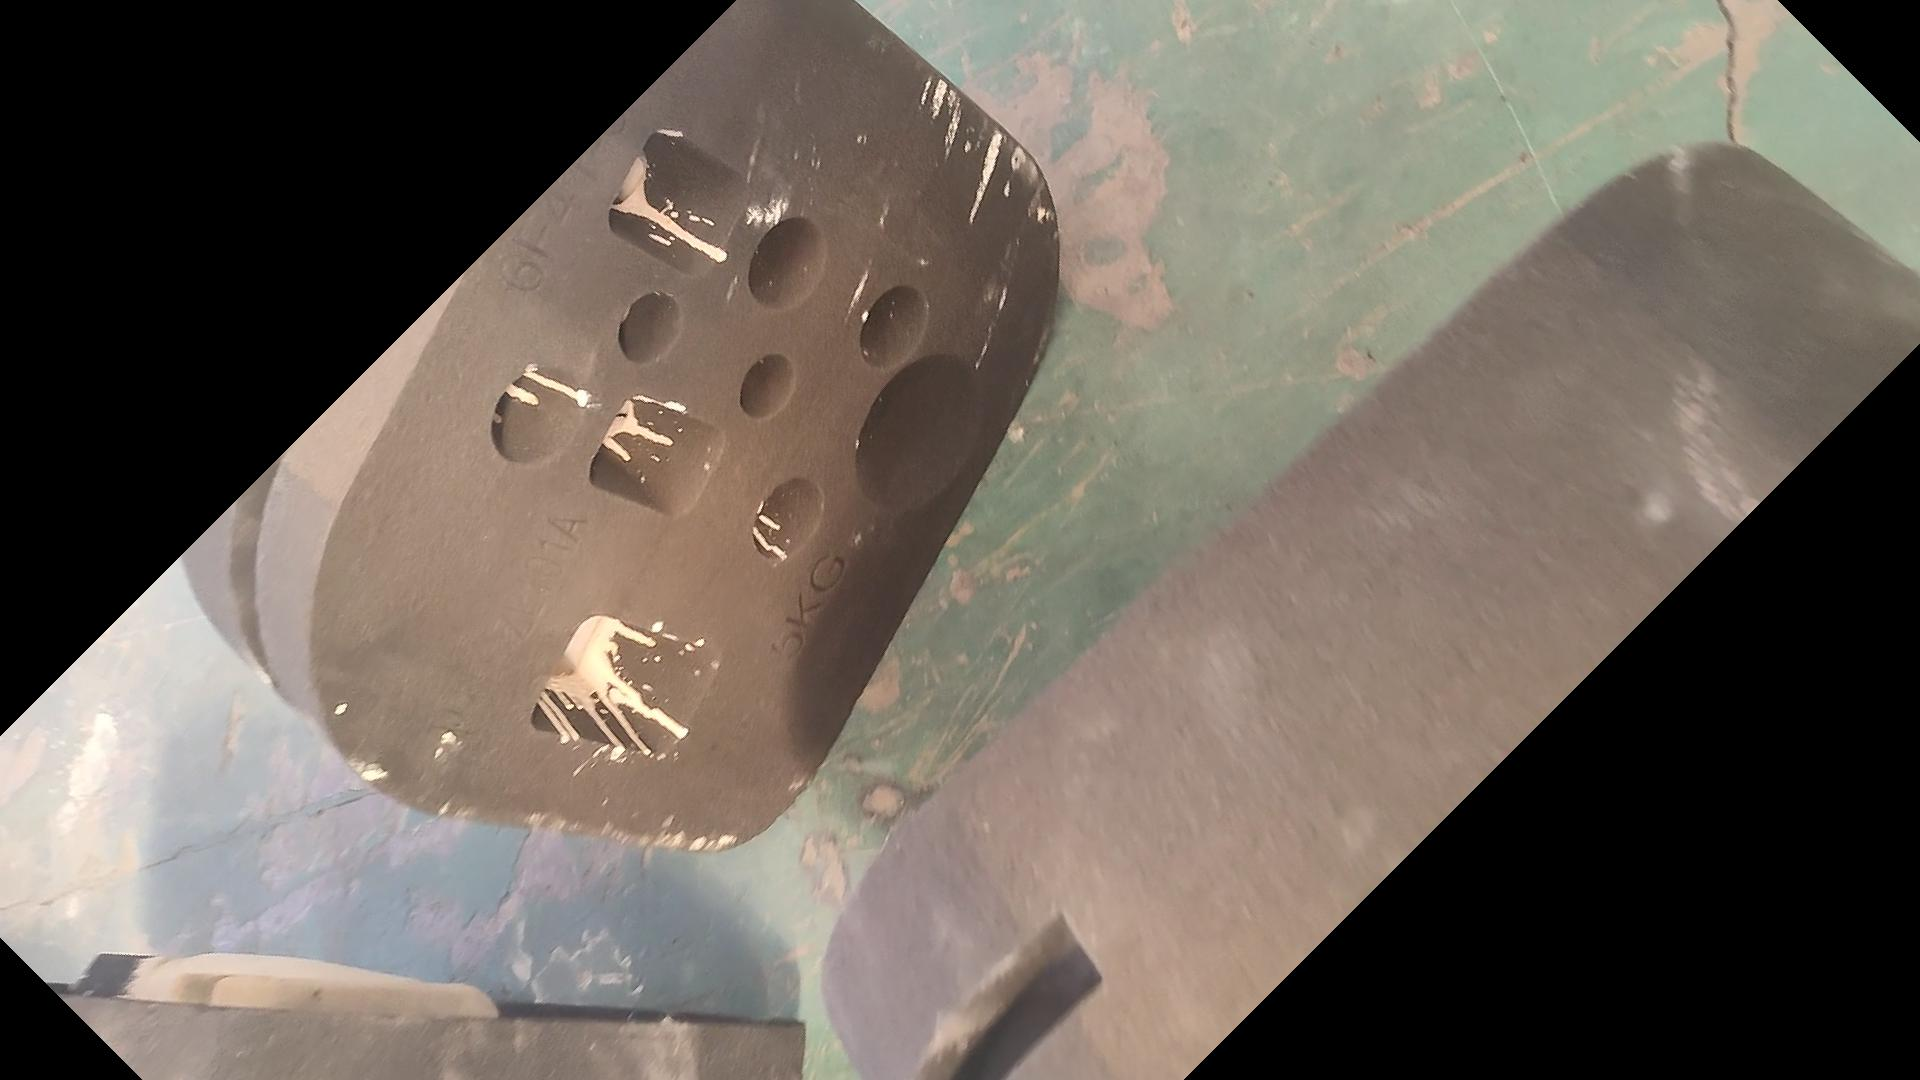pouring hole: (856, 353, 984, 513)
